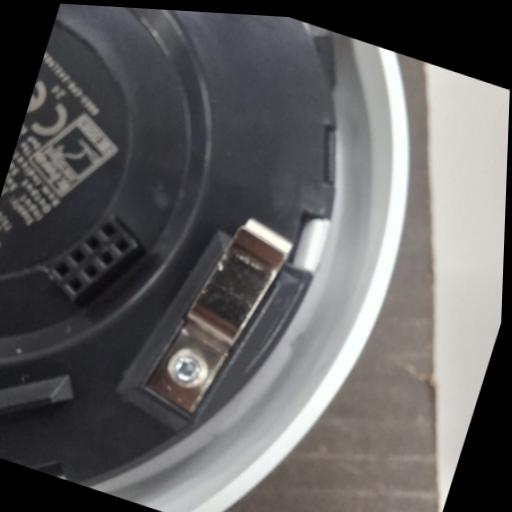yayli: (137, 196, 298, 435)
